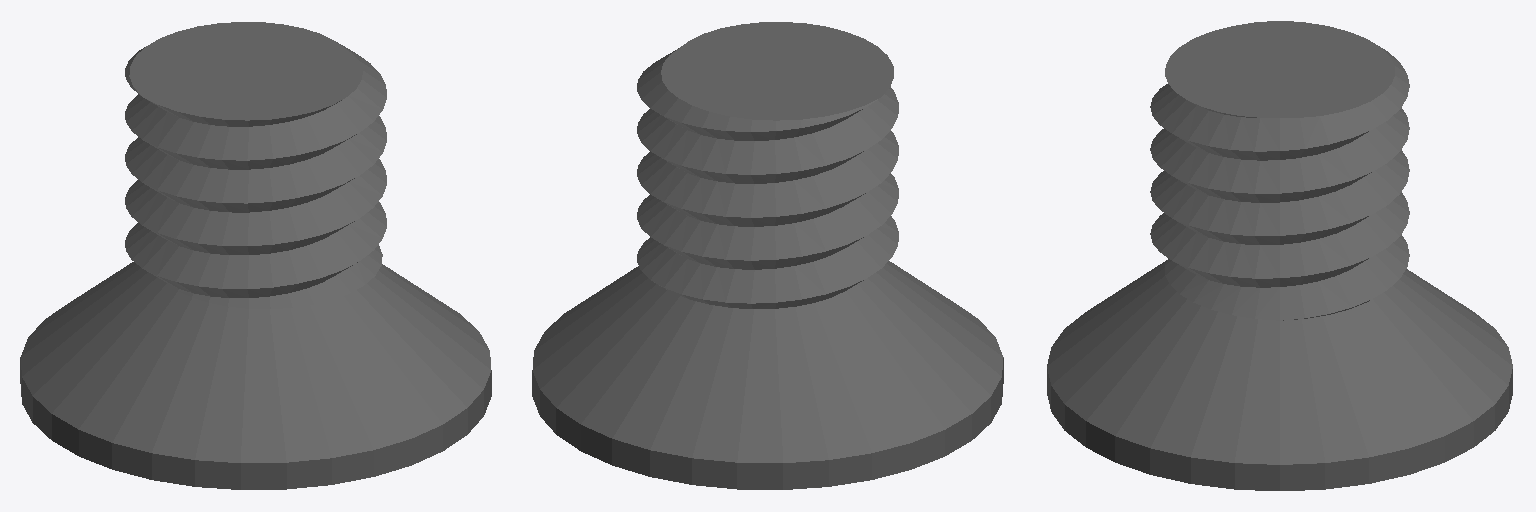
robot.urdf — screw:
<?xml version="1.0" ?>
<robot name="screw">
  <link name="base_link">
    <inertial>
      <!-- <origin rpy="0 0.0 0.0" xyz="0 0.1 -0.2"/>s -->
      <mass value="0.005"/>
      <inertia ixx="0.000001" ixy="0.0" ixz="0.0" iyy="0.000001" iyz="0.0" izz="0.000001"/>
    </inertial>
    <visual>
      <!-- <origin rpy="0 0.0 0.0" xyz="0 0.1 -0.2"/> -->
      <geometry>
        <mesh filename="package://demo_world/meshes/screw.dae" scale="0.5 0.5 0.5"/>
      </geometry>
    </visual>
    <collision>
      <!-- <origin rpy="0 0.0 0.0" xyz="0 0.1 -0.2"/> -->
      <geometry>
        <mesh filename="package://demo_world/meshes/screw.dae" scale="0.5 0.5 0.5"/>
      </geometry>
    </collision>
  </link>
</robot>

--- Facts derived from the render (not from the file) ---
Views: 3 orthographic renders of the robot side by side, from view 1: azimuth 30°, elevation 25°; view 2: azimuth 150°, elevation 25°; view 3: azimuth 270°, elevation 25°.
Robot: screw — 1 links, 0 joints (none); root link base_link; default pose: every joint at zero.
Visible links, largest first — view 1: base_link; view 2: base_link; view 3: base_link.
Boxes of the visible links, bbox=[...] form: base_link: bbox=[20, 22, 491, 489]; base_link: bbox=[532, 22, 1003, 489]; base_link: bbox=[1047, 21, 1512, 490].
Size in the robot's own frame: 0.02 by 0.02 by 0.015 metres.
Meshes: 1 distinct files referenced, 1 mesh visuals loaded (1 Collada DAE).